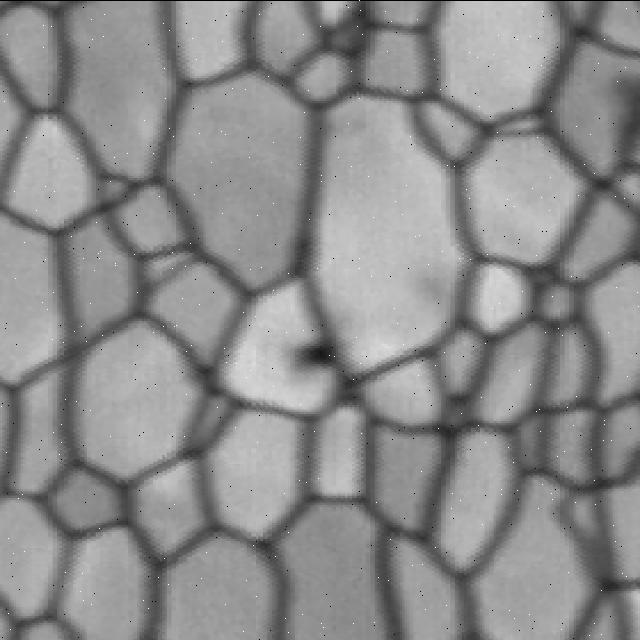good_void: (283, 330, 348, 376)
